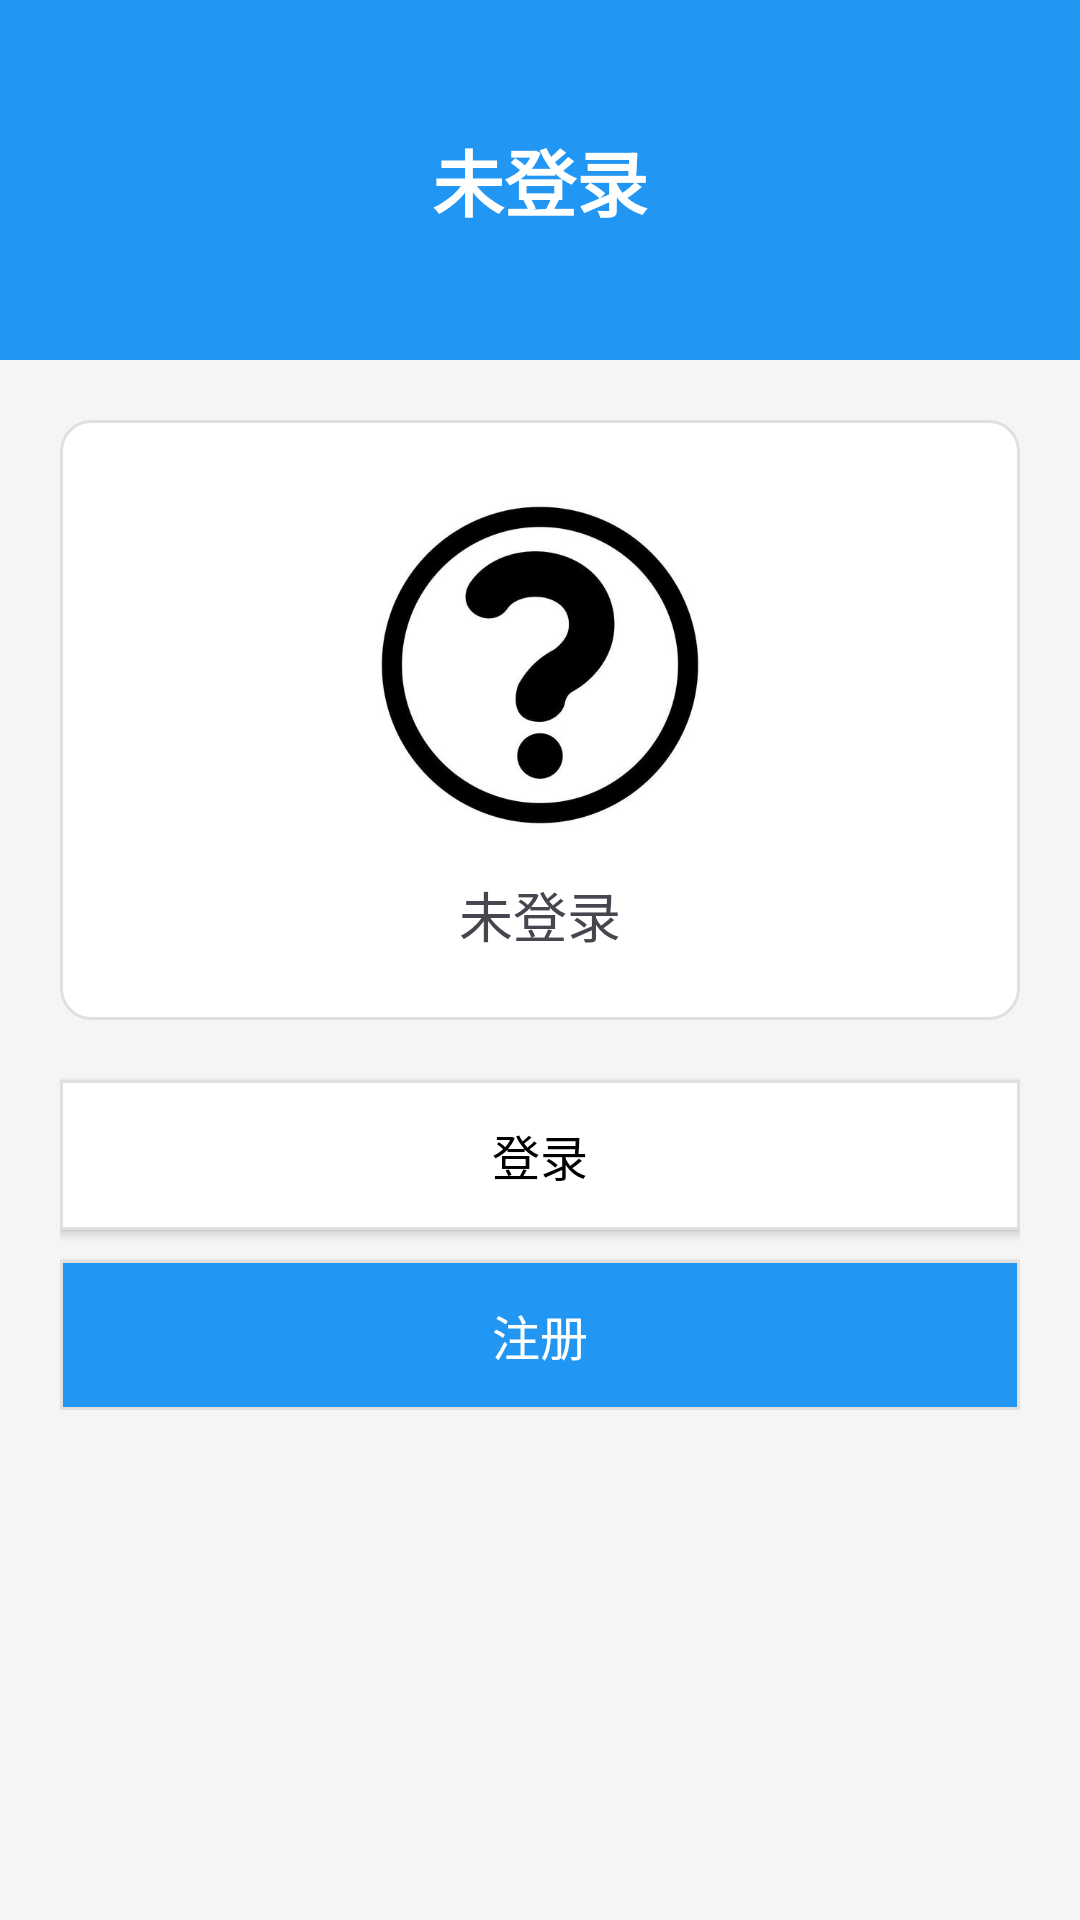

Icon click points for this 1080px×1920px phone screenshot, format point (x, y):
pic question: point (540, 665)
